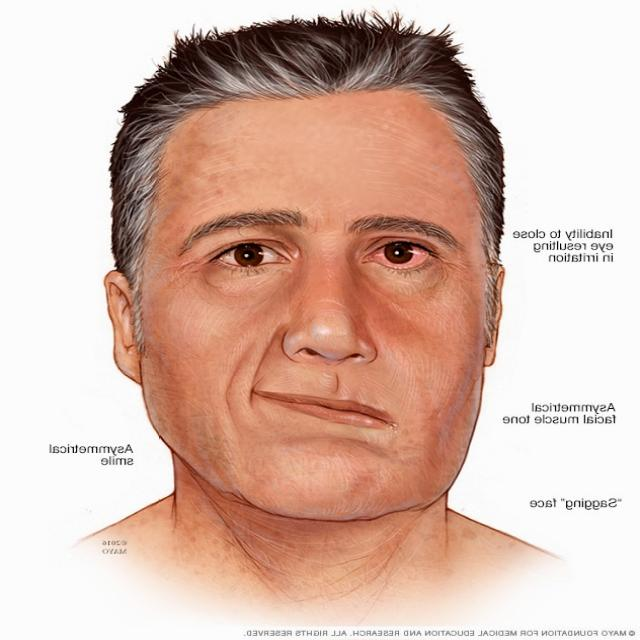stroke_face: (112, 22, 498, 520)
